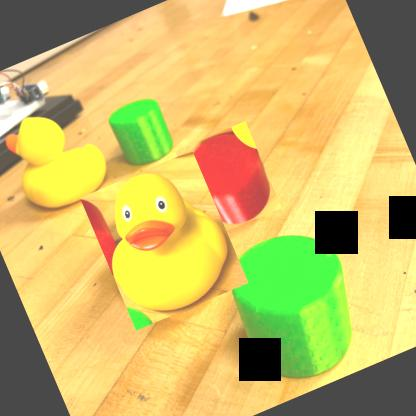duck: (80, 150, 248, 330), (0, 93, 118, 220)
green cylinder: (212, 213, 380, 397), (103, 90, 180, 174)
red cylinder: (175, 121, 282, 238)
